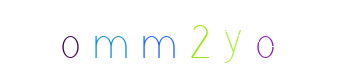2: (157, 0, 237, 80)
M: (93, 0, 173, 80), (135, 0, 215, 80)
O: (30, 0, 110, 80), (180, 0, 260, 80)
Y: (170, 0, 250, 80)
